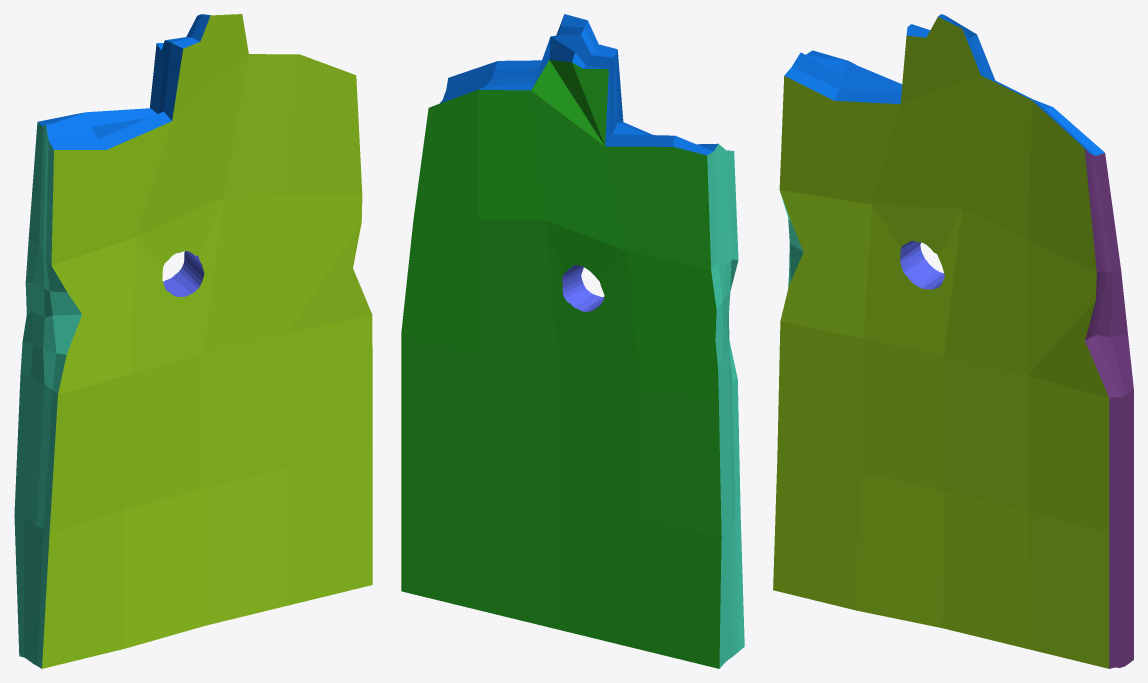
The model's file is wall.fbx.
The picture shows the model from 3 angles, left to right: view 1: azimuth 30°, elevation 25°; view 2: azimuth 150°, elevation 25°; view 3: azimuth 330°, elevation 25°; orthographic projection. The views are drawn at different scales.
Visible parts, largest first — view 1: Cube; view 2: Cube; view 3: Cube.
Part boxes in pixels (box(x1,y1,x2,y2)): Cube: box(14, 14, 372, 668); Cube: box(401, 14, 744, 668); Cube: box(773, 14, 1133, 668).
Size of the model in its own units: 131 by 230 by 21.23.
